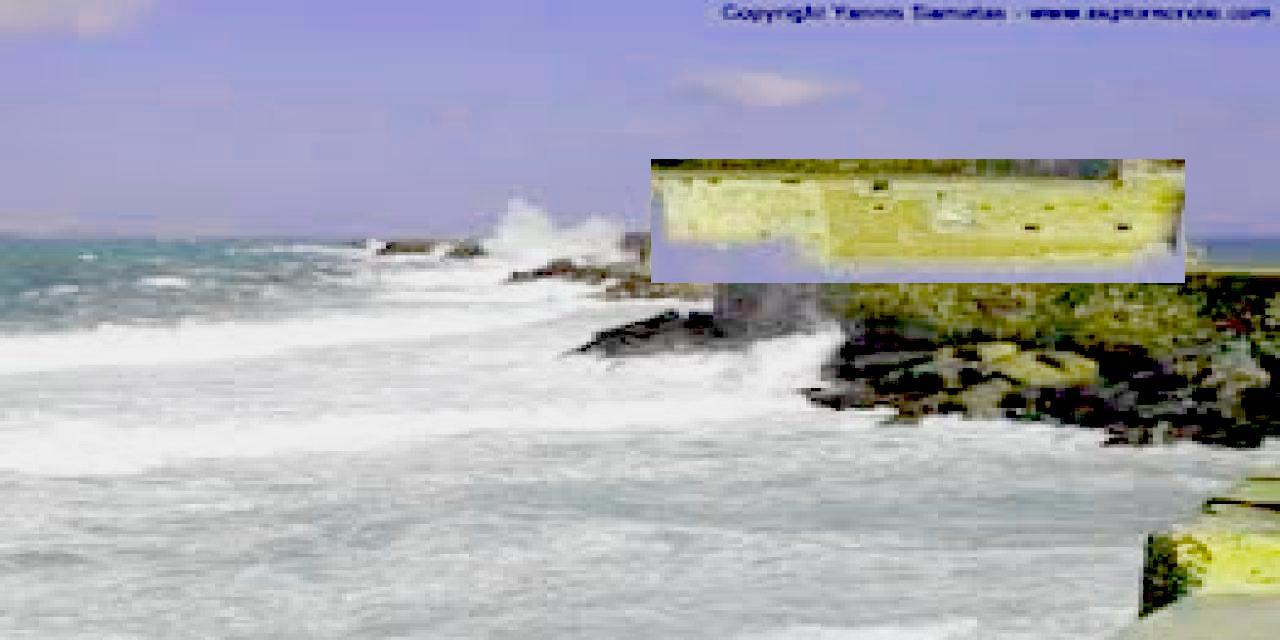Kules: (652, 160, 1186, 284)
